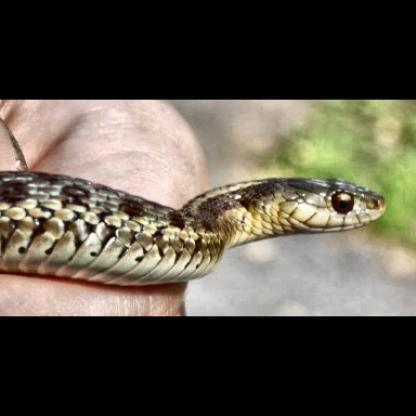Snake: (0, 150, 391, 290)
